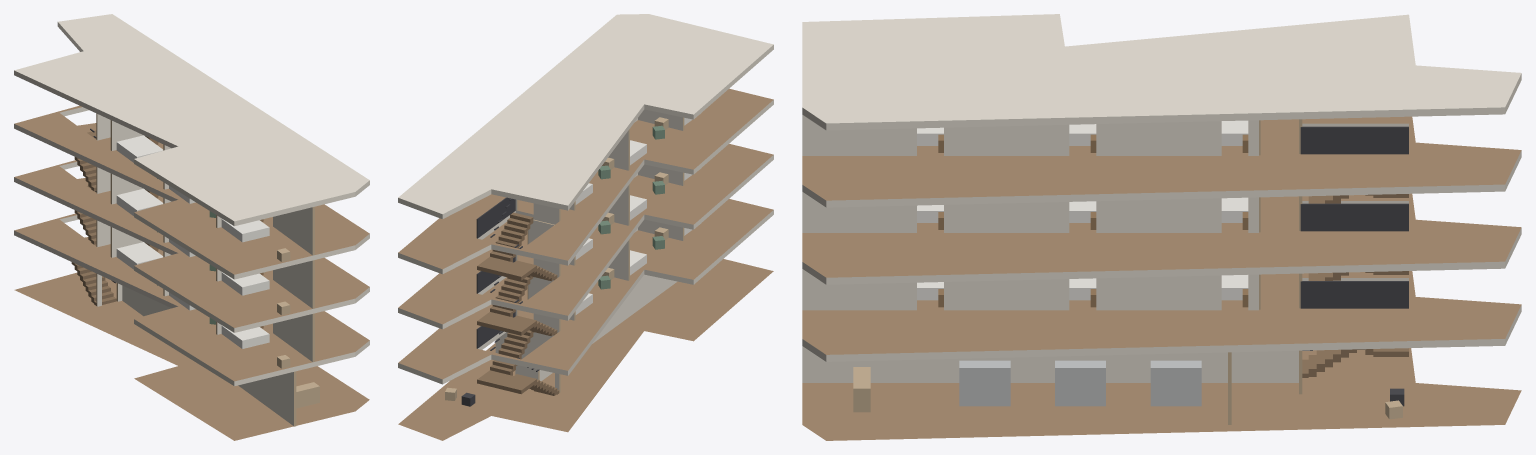
Rendered from interior.glb.
The picture shows the model from 3 angles, left to right: view 1: azimuth 30°, elevation 25°; view 2: azimuth 150°, elevation 25°; view 3: azimuth 270°, elevation 25°; orthographic projection. The views are drawn at different scales.
Visible parts, largest first — view 1: slabs, partitions, coarse-s1, coarse-s2, coarse-s3, stair, coarse-s0; view 2: slabs, stair, partitions, coarse-s1, coarse-s3, coarse-s2; view 3: slabs, partitions, stair, coarse-s0, coarse-s1, coarse-s3, coarse-s2.
Part boxes in pixels (left/top/right/bottom): slabs: left=14, top=14, right=369, bottom=440; partitions: left=96, top=113, right=314, bottom=426; coarse-s1: left=116, top=242, right=290, bottom=368; coarse-s2: left=116, top=188, right=290, bottom=315; coarse-s3: left=116, top=135, right=290, bottom=261; stair: left=71, top=128, right=116, bottom=305; coarse-s0: left=296, top=382, right=319, bottom=408; slabs: left=398, top=14, right=773, bottom=440; stair: left=476, top=197, right=559, bottom=395; partitions: left=495, top=109, right=684, bottom=392; coarse-s1: left=575, top=224, right=699, bottom=314; coarse-s3: left=575, top=113, right=700, bottom=204; coarse-s2: left=575, top=172, right=692, bottom=259; slabs: left=802, top=14, right=1521, bottom=440; partitions: left=802, top=115, right=1302, bottom=424; stair: left=1300, top=126, right=1408, bottom=377; coarse-s0: left=853, top=360, right=1404, bottom=419; coarse-s1: left=917, top=275, right=1248, bottom=307; coarse-s3: left=917, top=120, right=1248, bottom=152; coarse-s2: left=917, top=197, right=1248, bottom=229.
Bounding box in the file's own units: 8.67 × 11.75 × 24.09.
